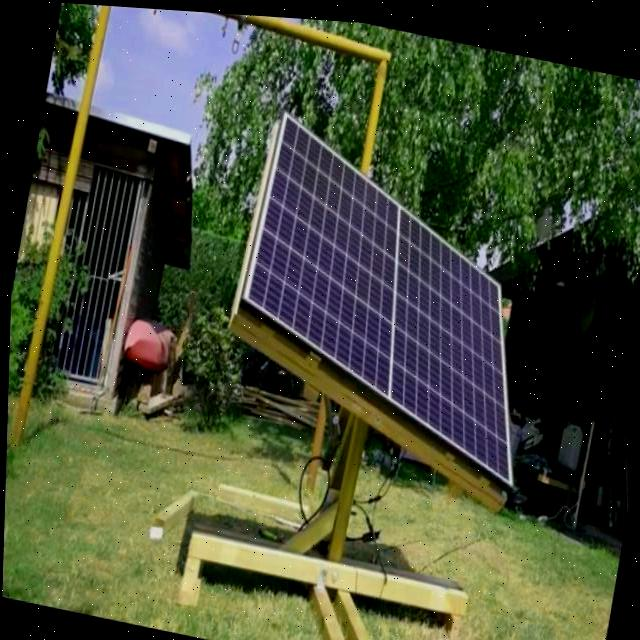Normal Solar Panel: (220, 109, 560, 484)
